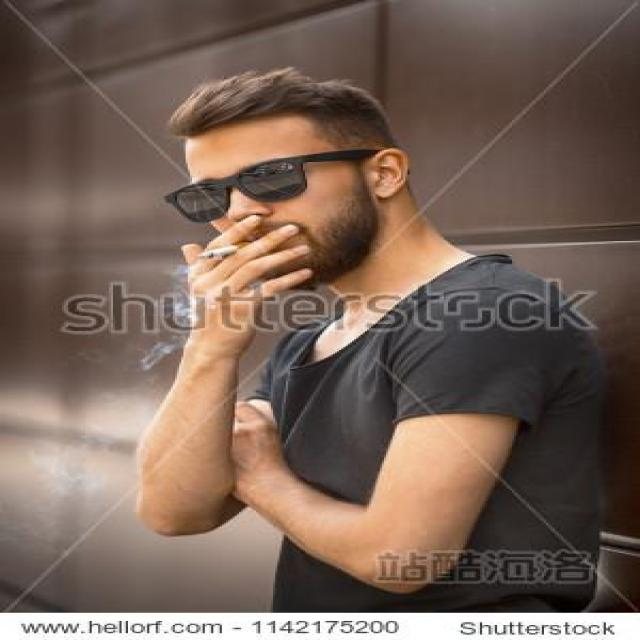Сигарета: (200, 245, 252, 257)
Тело: (134, 73, 634, 612)
